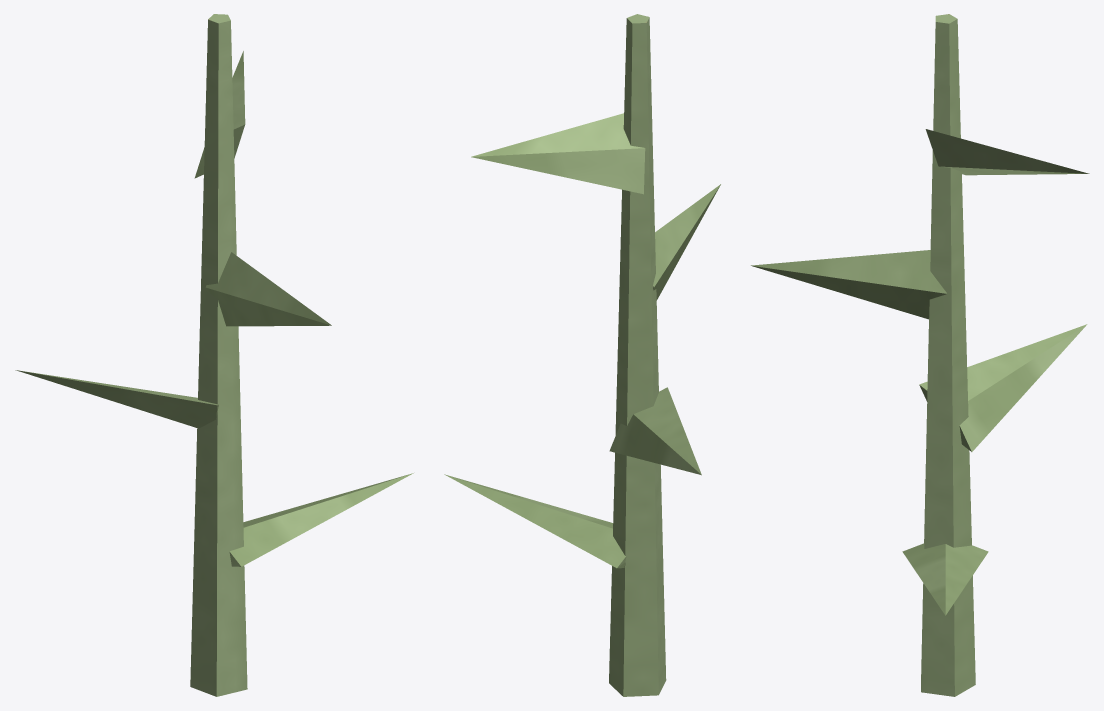
Rendered from sm_crop_corn_2.glb.
The picture shows the model from 3 angles, left to right: view 1: azimuth 30°, elevation 25°; view 2: azimuth 150°, elevation 25°; view 3: azimuth 270°, elevation 25°; orthographic projection.
Visible parts, largest first — view 1: sm_crop_corn_2; view 2: sm_crop_corn_2; view 3: sm_crop_corn_2.
Part boxes in pixels (<box>): sm_crop_corn_2: <box>15,14,413,696</box>; sm_crop_corn_2: <box>444,14,720,696</box>; sm_crop_corn_2: <box>751,14,1089,696</box>.
Size of the model in its own units: 0.2199 by 0.425 by 0.1966.
Materials: 1 (1 with a texture image).
